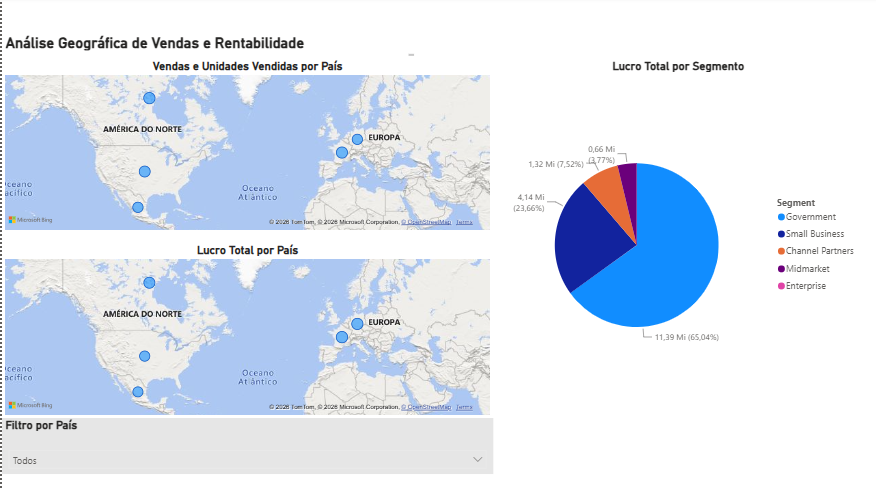

This screenshot's page, from the dashboard's own definition file:
{"tool":"powerbi","page":{"name":"Análise Geográfica","canvas":[1280,720],"ordinal":1},"visuals":[{"type":"map","title":"Vendas e Unidades Vendidas por País","fields":{"Category":["financials.Country"],"Size":["Sum(financials.Units Sold)"]},"box":[0,90.7,719,255.3],"z":0},{"type":"map","title":"Lucro Total por País","fields":{"Category":["financials.Country"],"Size":["Sum(financials.Profit)"]},"box":[0,359.5,719,257],"z":1000},{"type":"pieChart","title":"Lucro Total por Segmento","fields":{"Category":["financials.Segment"],"Y":["Sum(financials.Profit)"]},"box":[719,90.7,542.6,525.8],"z":2000},{"type":"textbox","title":"Análise Geográfica de Vendas e Rentabilidade","box":[0,53.8,608.1,37],"z":3000},{"type":"slicer","title":"Filtro por País","fields":{"Values":["financials.Country"]},"box":[0,616.5,719,82.3],"z":4000}]}

Visuals, with their boxes in screenshot pixels (x1, y1, x2, y2), scaled from the page's 1280x720 canvas onto the 876x488 screenshot:
"Vendas e Unidades Vendidas por País" map: [left=0, top=61, right=492, bottom=235]
"Lucro Total por País" map: [left=0, top=244, right=492, bottom=418]
"Lucro Total por Segmento" pieChart: [left=492, top=61, right=863, bottom=418]
"Análise Geográfica de Vendas e Rentabilidade" textbox: [left=0, top=36, right=416, bottom=62]
"Filtro por País" slicer: [left=0, top=418, right=492, bottom=474]
